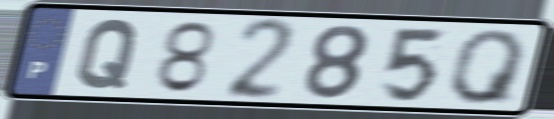2: (219, 14, 299, 105)
5: (374, 25, 452, 105)
8: (303, 22, 373, 101), (154, 19, 218, 95)
Q: (447, 27, 531, 107), (72, 16, 143, 91)
